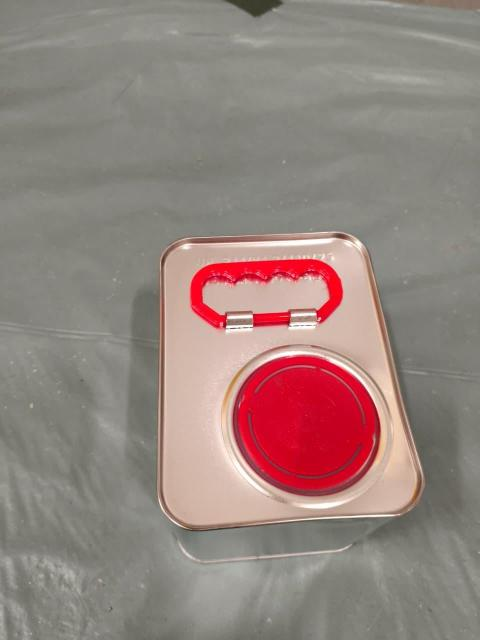Metal: (132, 237, 448, 570)
Plastik: (257, 370, 367, 483), (190, 255, 340, 335)
